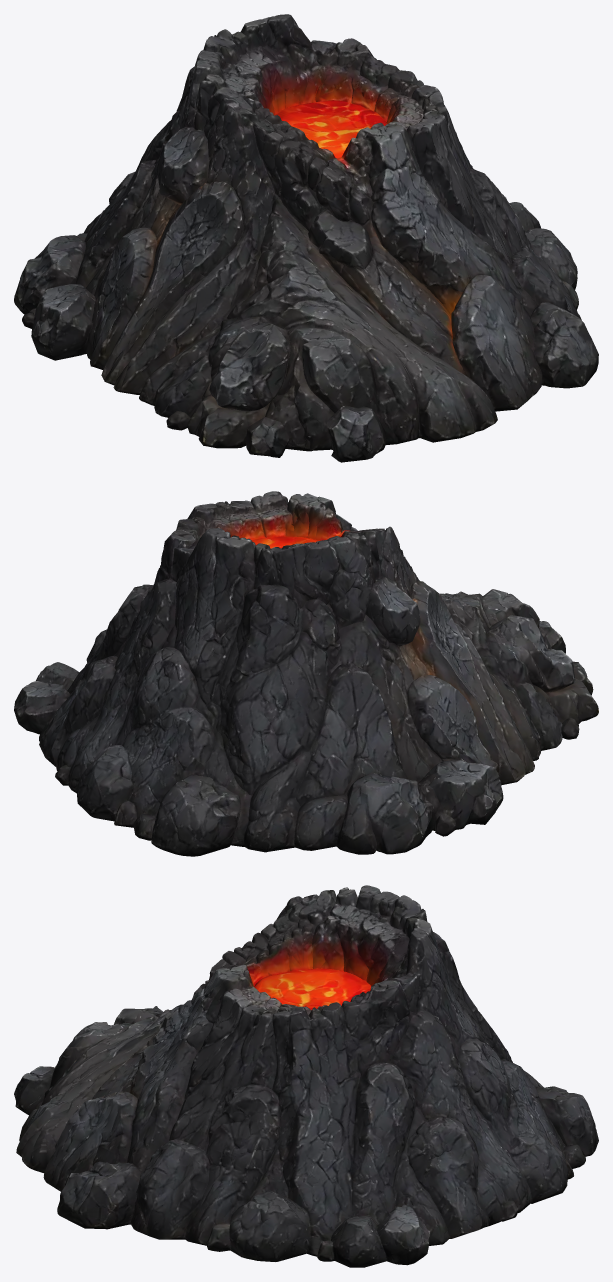
File: volcano-hyper3d.glb
3 views of the same model, one above another, from view 1: azimuth 30°, elevation 25°; view 2: azimuth 150°, elevation 25°; view 3: azimuth 270°, elevation 25° (orthographic). The views are drawn at different scales.
Visible parts, largest first — view 1: model; view 2: model; view 3: model.
Part boxes in pixels (x1,y1,x2,y2): model: (14, 14, 598, 462); model: (14, 491, 598, 856); model: (14, 885, 598, 1267).
Size of the model in its own units: 1.7 by 0.8574 by 1.9.
Materials: 1 (1 with a texture image).
